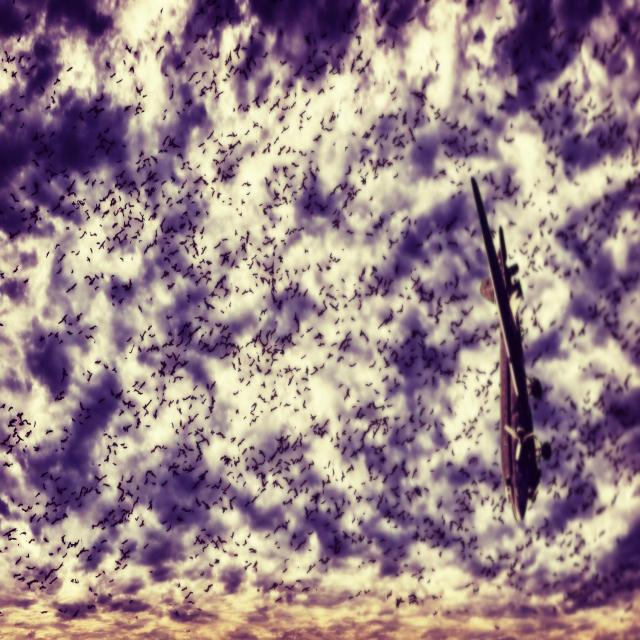airplane: (470, 175, 542, 524)
